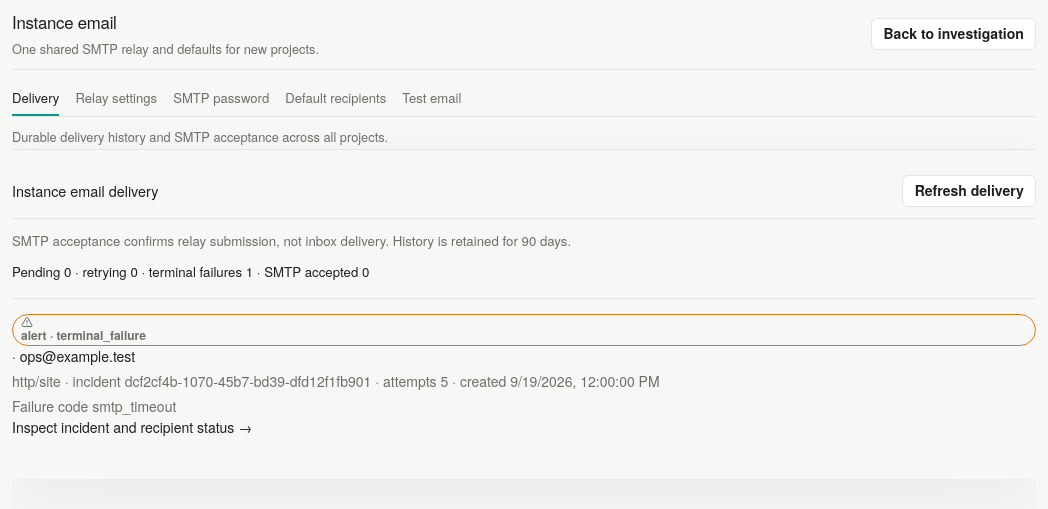
Test: email and maintenance administration › lands on delivery evidence and reaches every task from local navigation
Click the link "Default recipients" at (336, 97), box top-left (285, 88), bottom-right (386, 106)
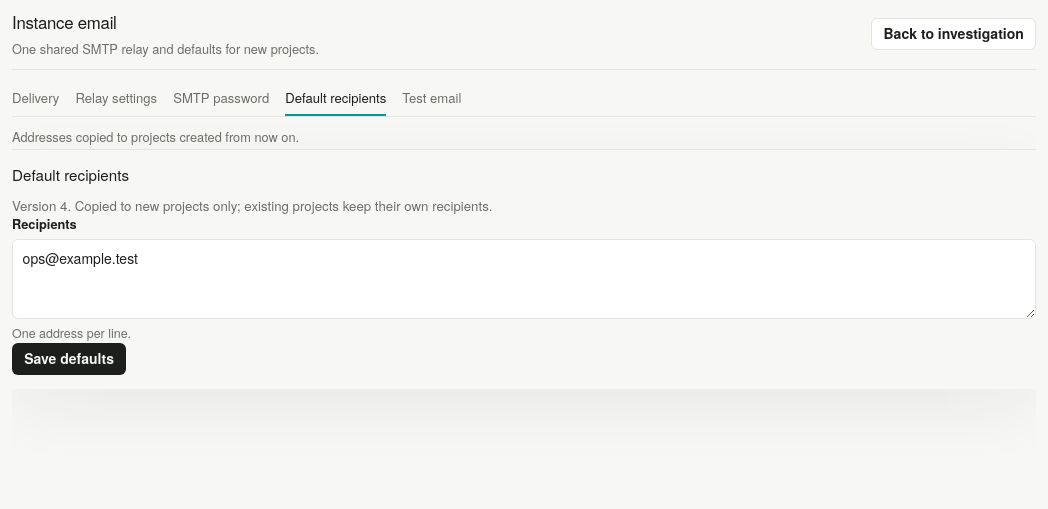
Expected: the text box labelled "Recipients" holds "ops@example.test", top-left (12, 240), bottom-right (1036, 320)
Expected: the heading "Instance email delivery" is gone
Click the link "Relay settings" at (116, 97), box top-left (75, 88), bottom-right (157, 106)
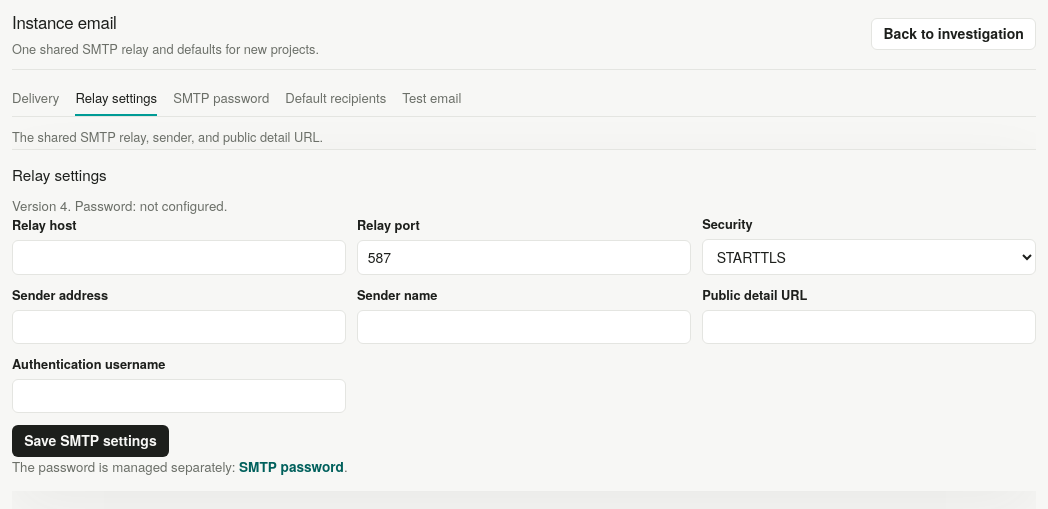
Expected: the field labelled "Relay host" is shown, top-left (12, 240), bottom-right (346, 275)
